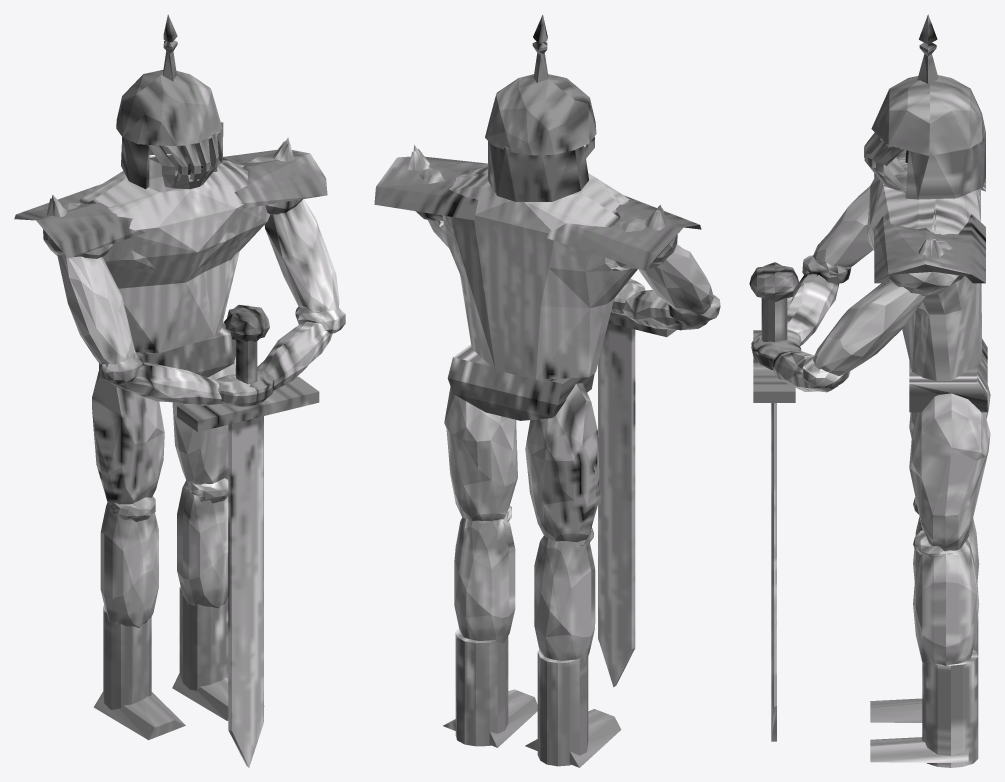
File: Fullcoat.glb
3 views of the same model, side by side, from view 1: azimuth 30°, elevation 25°; view 2: azimuth 150°, elevation 25°; view 3: azimuth 270°, elevation 25° (orthographic). The views are drawn at different scales.
Visible parts, largest first — view 1: Fullcoat; view 2: Fullcoat; view 3: Fullcoat.
Boxes of the visible parts, x1,y1,x2,y2 form: Fullcoat: (14, 14, 345, 767); Fullcoat: (374, 14, 720, 767); Fullcoat: (749, 14, 990, 767).
Size of the model in its own units: 80.13 by 195 by 58.86.
Materials: 1 (1 with a texture image).
